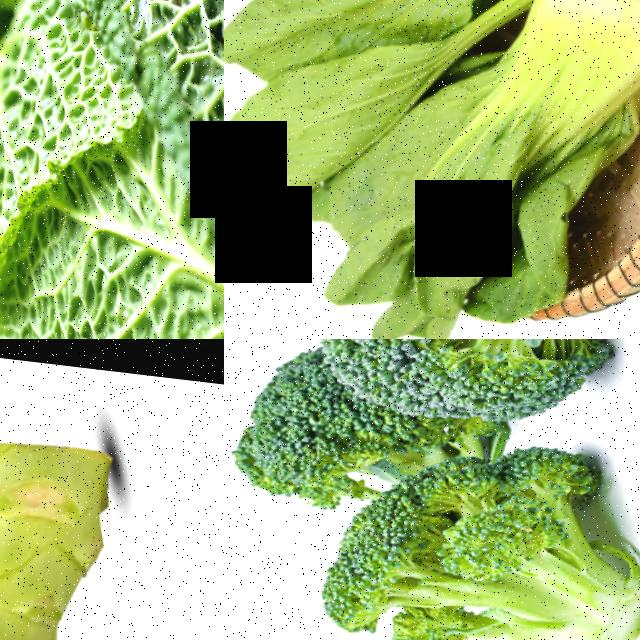bok choy: (376, 0, 640, 317), (224, 0, 579, 85)
broccoli: (308, 389, 640, 640), (0, 339, 224, 640), (300, 339, 640, 442), (224, 339, 353, 493)
cabbage: (0, 0, 224, 339)
